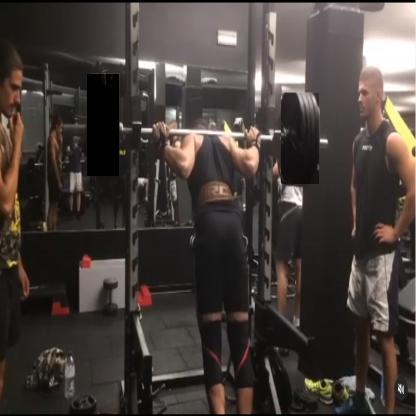barbell: (282, 94, 321, 186), (88, 75, 121, 178)
